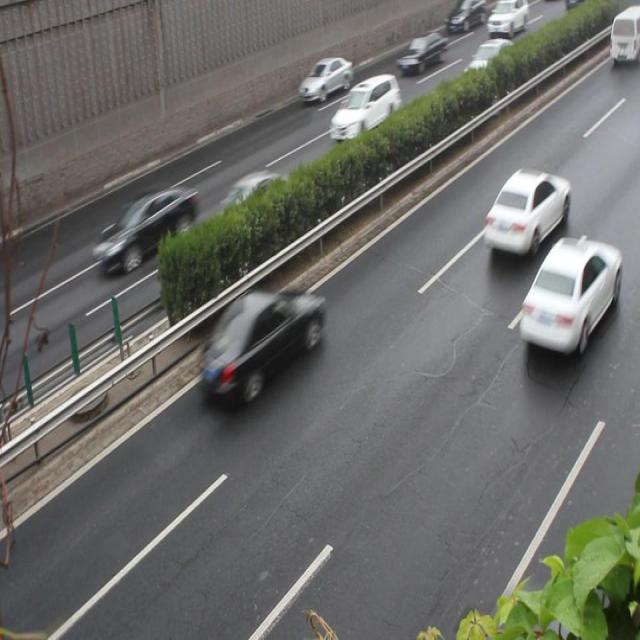car: (201, 286, 325, 406), (519, 233, 619, 352), (93, 188, 198, 273), (483, 166, 569, 255), (209, 170, 298, 252), (330, 72, 401, 141)
